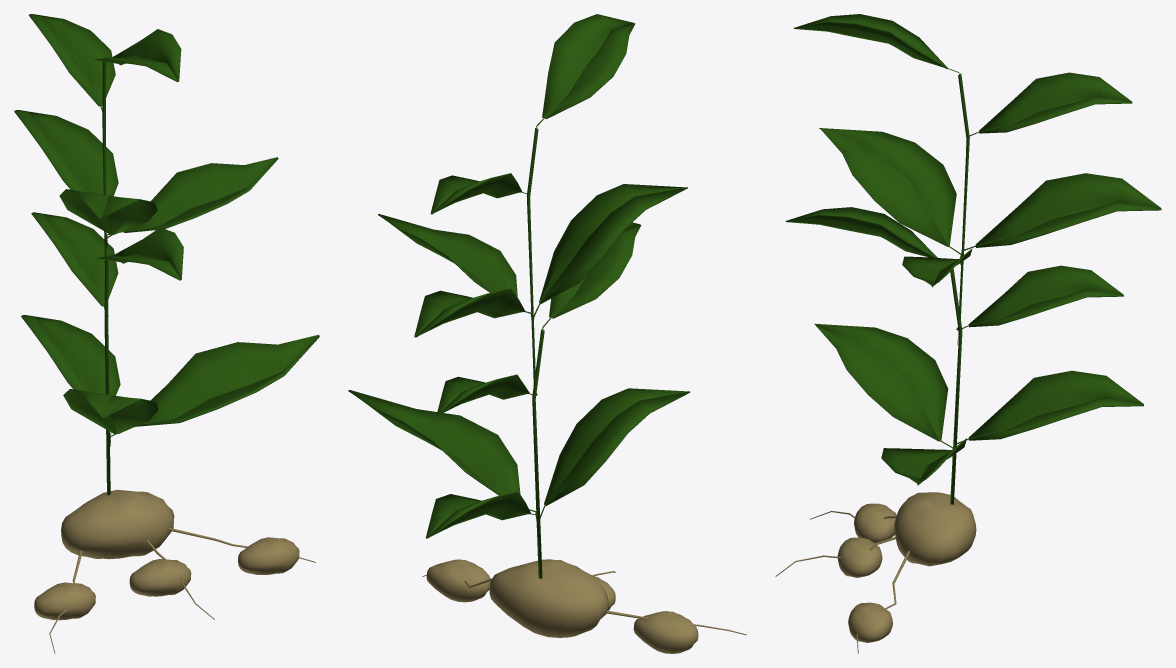
Rendered from BatataMadura.fbx.
3 renders of one model, left to right at view 1: azimuth 30°, elevation 25°; view 2: azimuth 150°, elevation 25°; view 3: azimuth 270°, elevation 25°, orthographic. The views are drawn at different scales.
Parts seen in each view (by area): view 1: BatataMadura; view 2: BatataMadura; view 3: BatataMadura.
Part boxes in pixels (x1=…): BatataMadura: x1=14, y1=14, x2=319, y2=653; BatataMadura: x1=348, y1=14, x2=746, y2=653; BatataMadura: x1=775, y1=14, x2=1161, y2=653.
Size of the model in its own units: 28.63 by 48.3 by 29.88.
